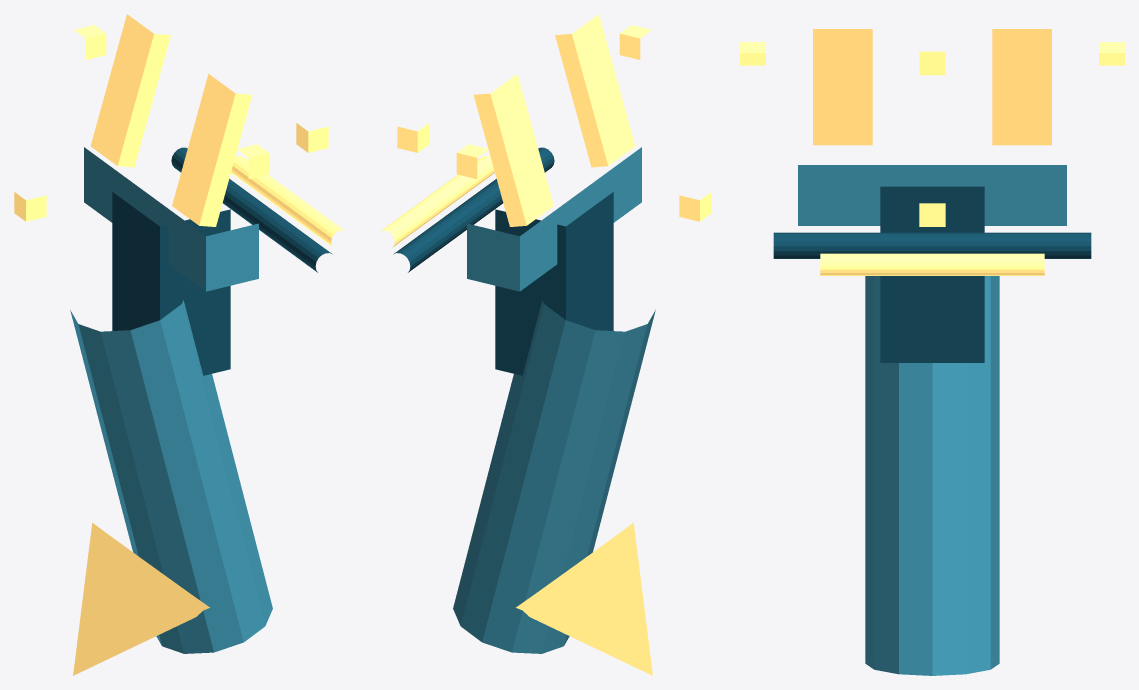
Rendered from naga-siren.glb.
The picture shows the model from 3 angles, left to right: view 1: azimuth 30°, elevation 25°; view 2: azimuth 150°, elevation 25°; view 3: azimuth 270°, elevation 25°; orthographic projection. The views are drawn at different scales.
Visible parts, largest first — view 1: naga-siren-serpent-tail, naga-siren-replacement-torso, naga-siren-tail-fin, naga-siren-replacement-shoulders, naga-siren-head-fin-l, naga-siren-head-fin-r, naga-siren-song-ring, naga-siren-song-ring-2, naga-siren-flair-mote-3, naga-siren-flair-mote-1, naga-siren-flair-mote-0, naga-siren-flair-mote-2; view 2: naga-siren-serpent-tail, naga-siren-replacement-torso, naga-siren-tail-fin, naga-siren-replacement-shoulders, naga-siren-head-fin-r, naga-siren-head-fin-l, naga-siren-song-ring, naga-siren-song-ring-2, naga-siren-flair-mote-1, naga-siren-flair-mote-3, naga-siren-flair-mote-0, naga-siren-flair-mote-2; view 3: naga-siren-serpent-tail, naga-siren-replacement-torso, naga-siren-replacement-shoulders, naga-siren-song-ring, naga-siren-head-fin-l, naga-siren-head-fin-r, naga-siren-song-ring-2, naga-siren-flair-mote-2, naga-siren-flair-mote-0, naga-siren-flair-mote-1, naga-siren-flair-mote-3.
Part boxes in pixels (x1,y1,x2,y2): naga-siren-serpent-tail: [70, 300, 272, 653]; naga-siren-replacement-torso: [112, 192, 230, 375]; naga-siren-tail-fin: [73, 523, 209, 675]; naga-siren-replacement-shoulders: [84, 147, 258, 291]; naga-siren-head-fin-l: [172, 74, 252, 226]; naga-siren-head-fin-r: [90, 14, 170, 167]; naga-siren-song-ring: [171, 147, 332, 272]; naga-siren-song-ring-2: [231, 156, 345, 246]; naga-siren-flair-mote-3: [74, 25, 106, 59]; naga-siren-flair-mote-1: [237, 144, 269, 178]; naga-siren-flair-mote-0: [296, 123, 328, 152]; naga-siren-flair-mote-2: [14, 192, 46, 221]; naga-siren-serpent-tail: [453, 300, 655, 653]; naga-siren-replacement-torso: [495, 192, 613, 375]; naga-siren-tail-fin: [516, 523, 652, 675]; naga-siren-replacement-shoulders: [467, 147, 641, 291]; naga-siren-head-fin-r: [473, 74, 553, 226]; naga-siren-head-fin-l: [555, 14, 635, 167]; naga-siren-song-ring: [393, 147, 554, 272]; naga-siren-song-ring-2: [380, 156, 494, 246]; naga-siren-flair-mote-1: [619, 25, 651, 59]; naga-siren-flair-mote-3: [456, 144, 488, 178]; naga-siren-flair-mote-0: [397, 123, 429, 152]; naga-siren-flair-mote-2: [679, 192, 711, 221]; naga-siren-serpent-tail: [865, 276, 999, 675]; naga-siren-replacement-torso: [880, 186, 984, 362]; naga-siren-replacement-shoulders: [798, 165, 1066, 225]; naga-siren-song-ring: [773, 232, 1091, 258]; naga-siren-head-fin-l: [813, 29, 872, 145]; naga-siren-head-fin-r: [992, 29, 1051, 145]; naga-siren-song-ring-2: [820, 253, 1044, 275]; naga-siren-flair-mote-2: [919, 51, 945, 75]; naga-siren-flair-mote-0: [919, 203, 945, 226]; naga-siren-flair-mote-1: [740, 42, 765, 65]; naga-siren-flair-mote-3: [1099, 42, 1124, 65].
Bounding box in the file's own units: 1.03 × 1.94 × 1.03.
